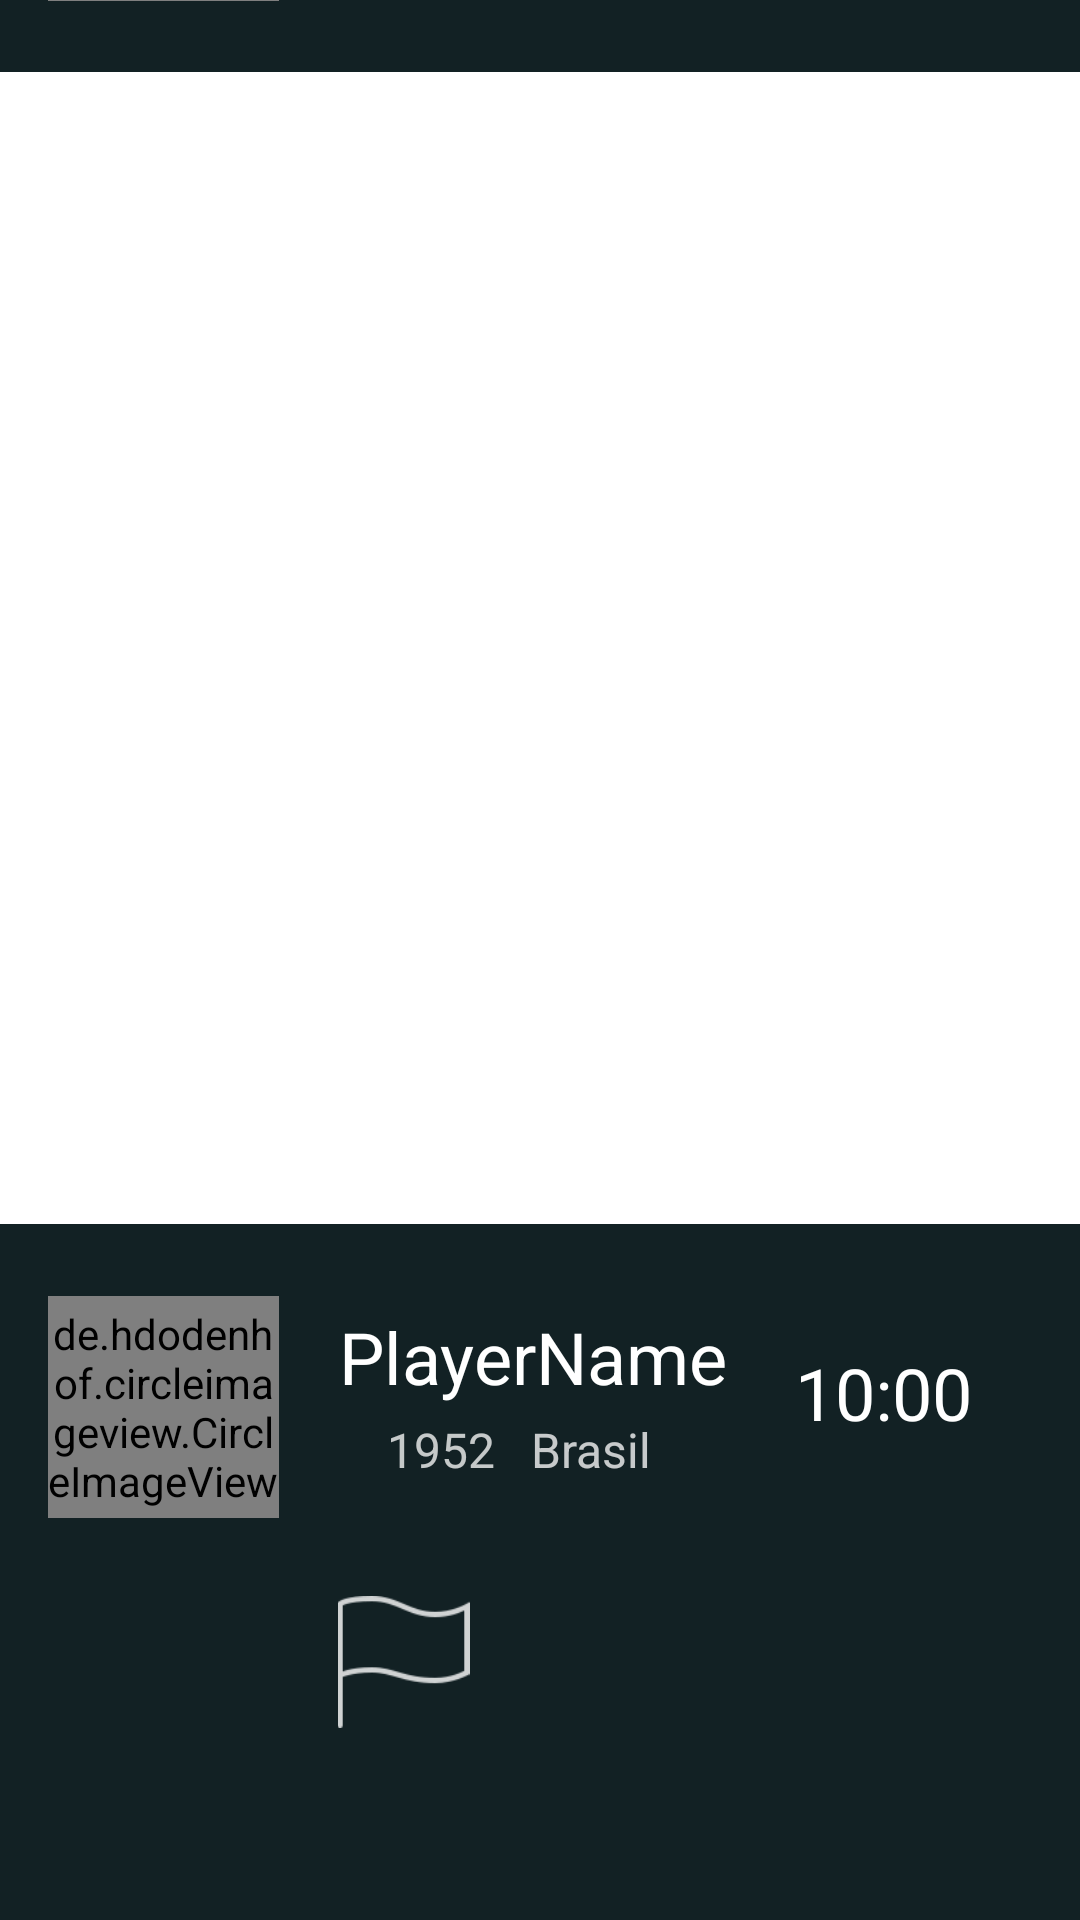

Icons on this 1080px×1920px Android screen, each with the point to tap as point (x, y):
flag: point (404, 1662)
